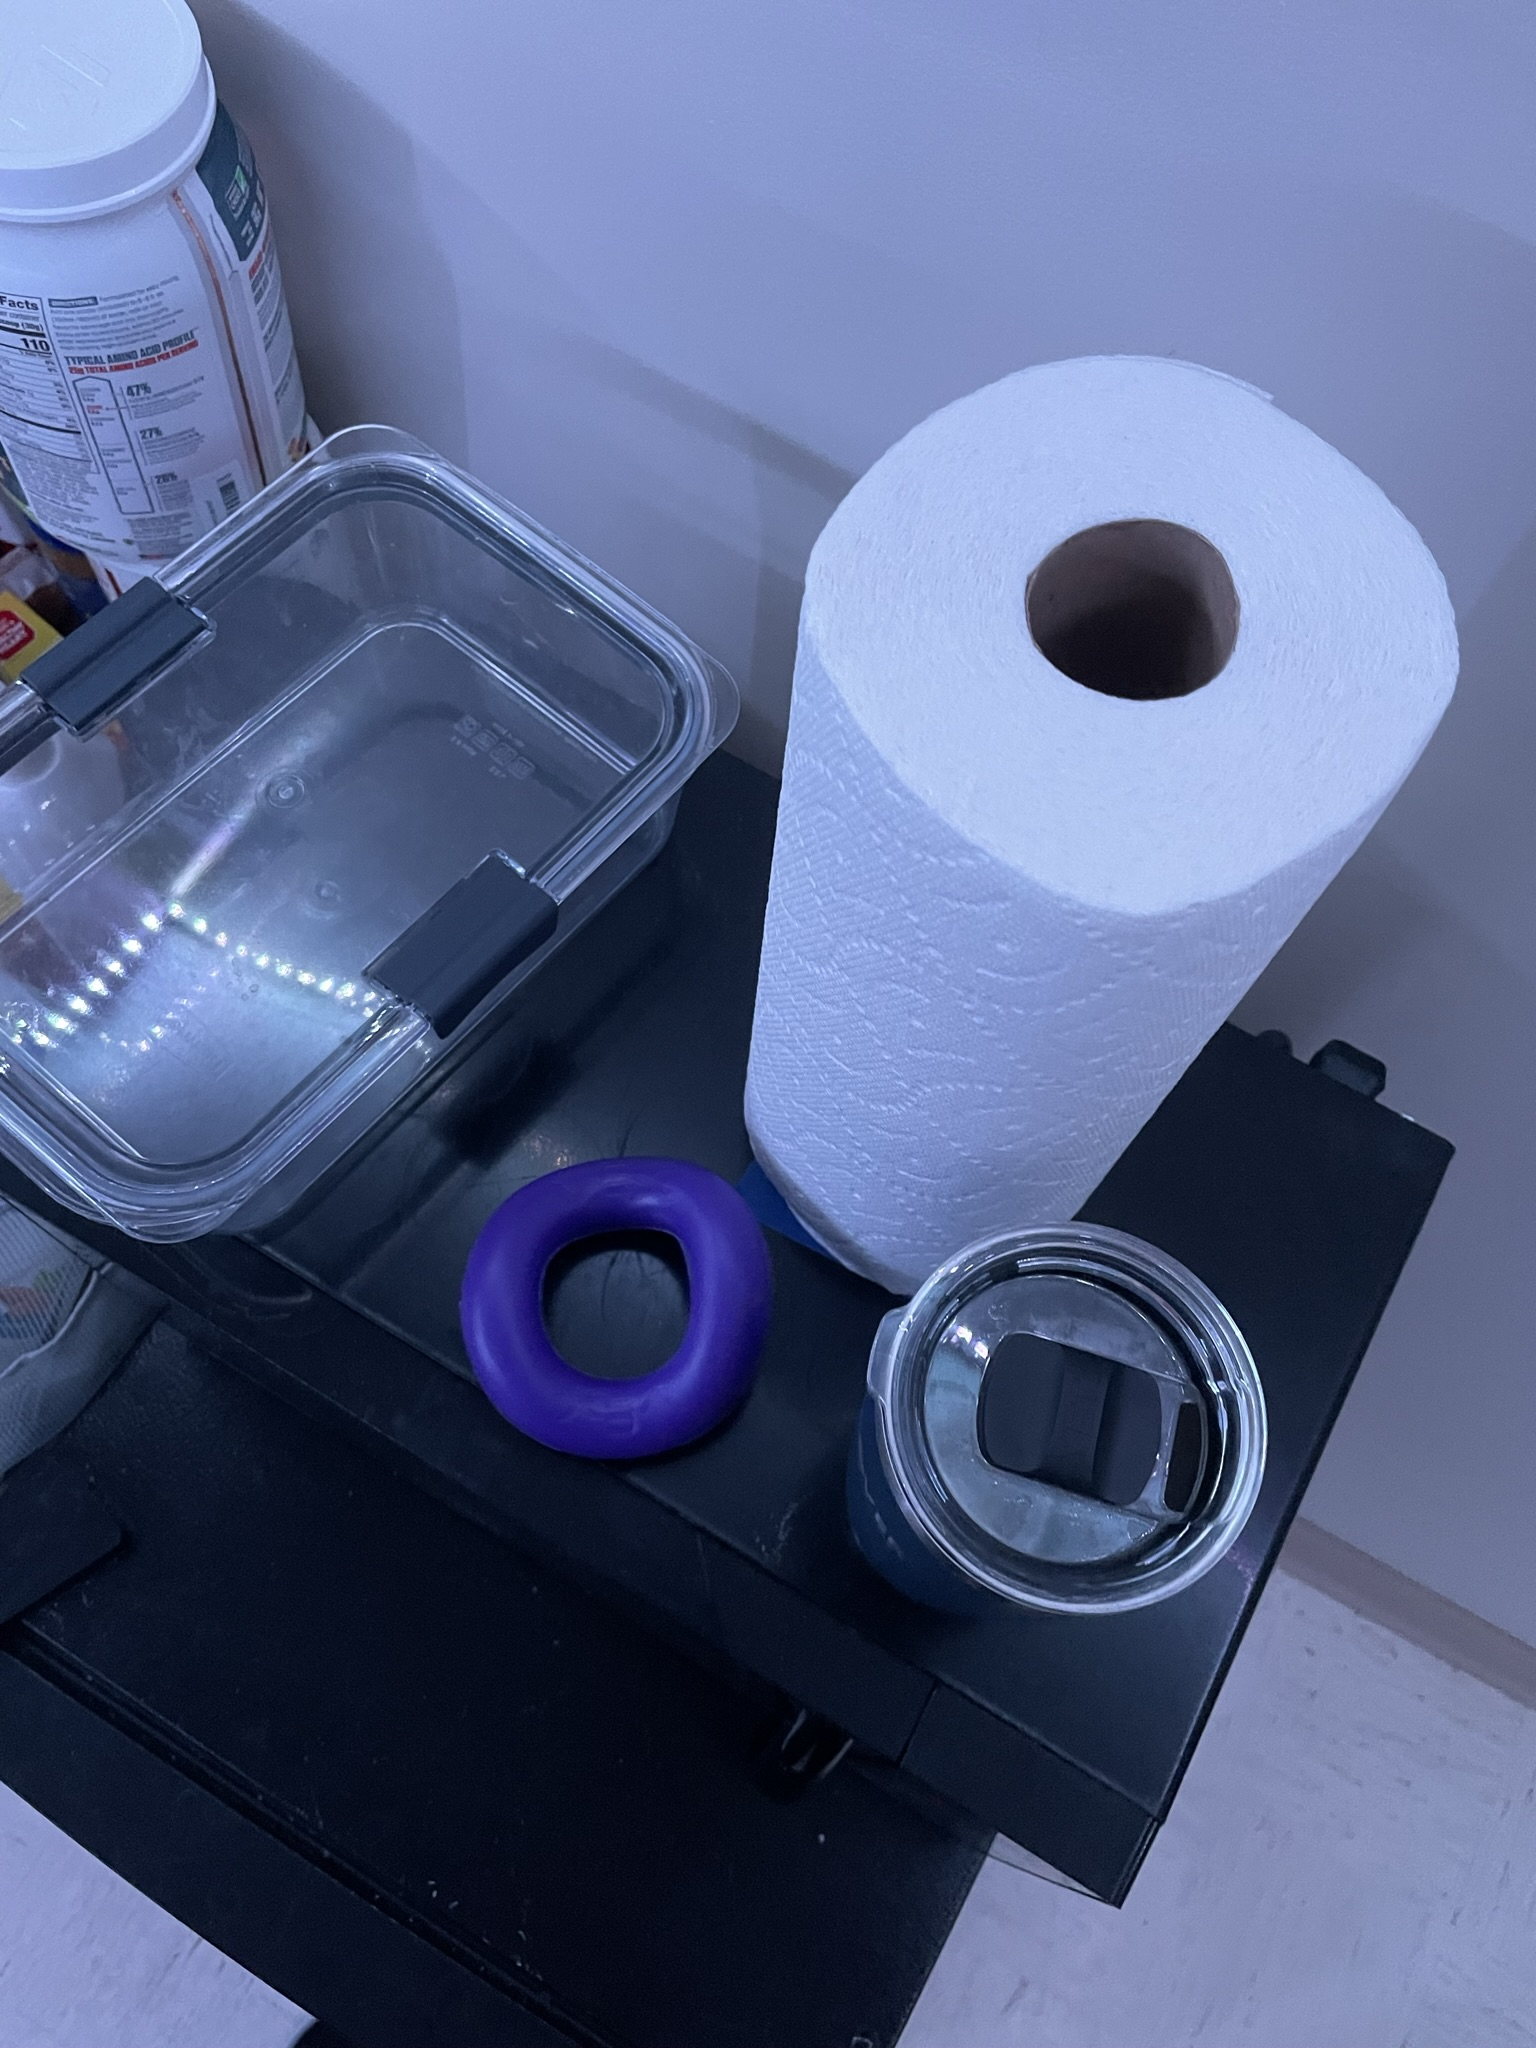ring: (458, 1148, 779, 1459)
